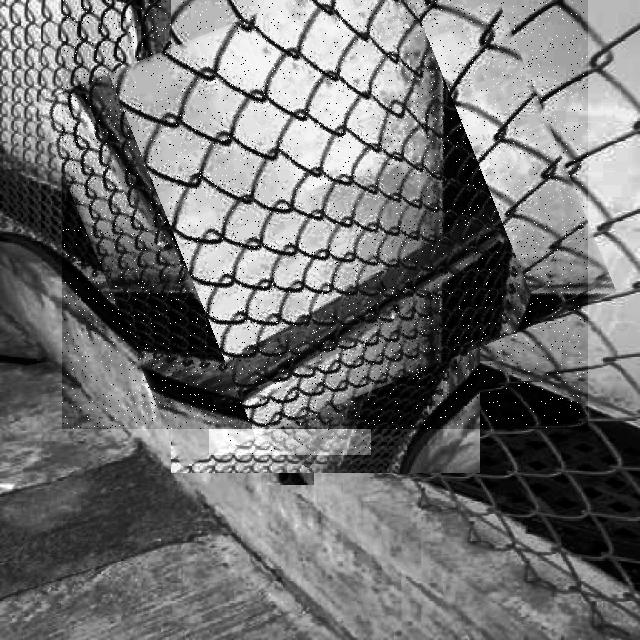anomaly-fence: (209, 294, 371, 455)
fences: (62, 0, 588, 429)
